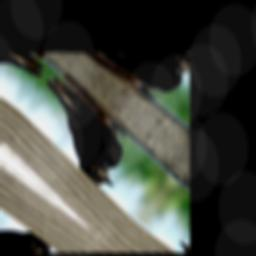Swallow: (17, 65, 149, 195)
